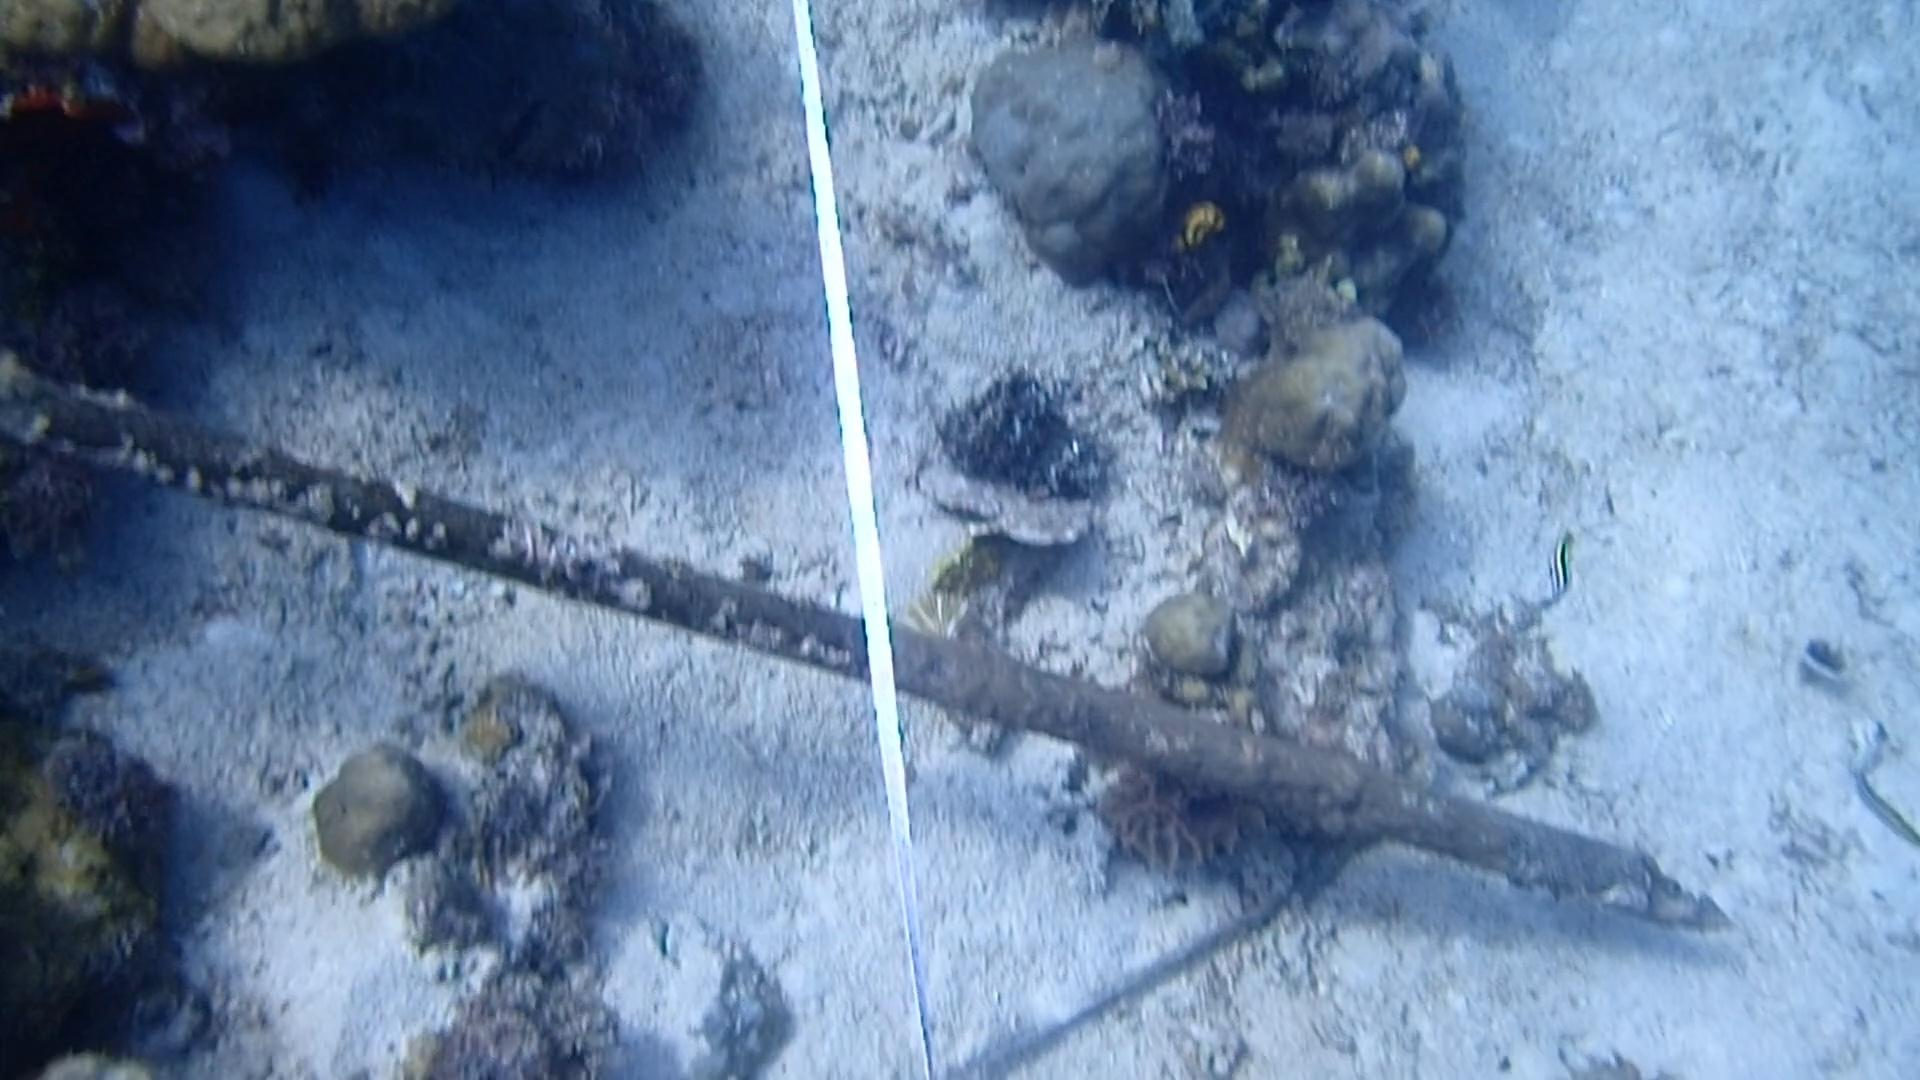Dark Fish: (480, 90, 560, 165)
Striped Fish: (1837, 767, 1920, 848), (1530, 522, 1588, 615)
